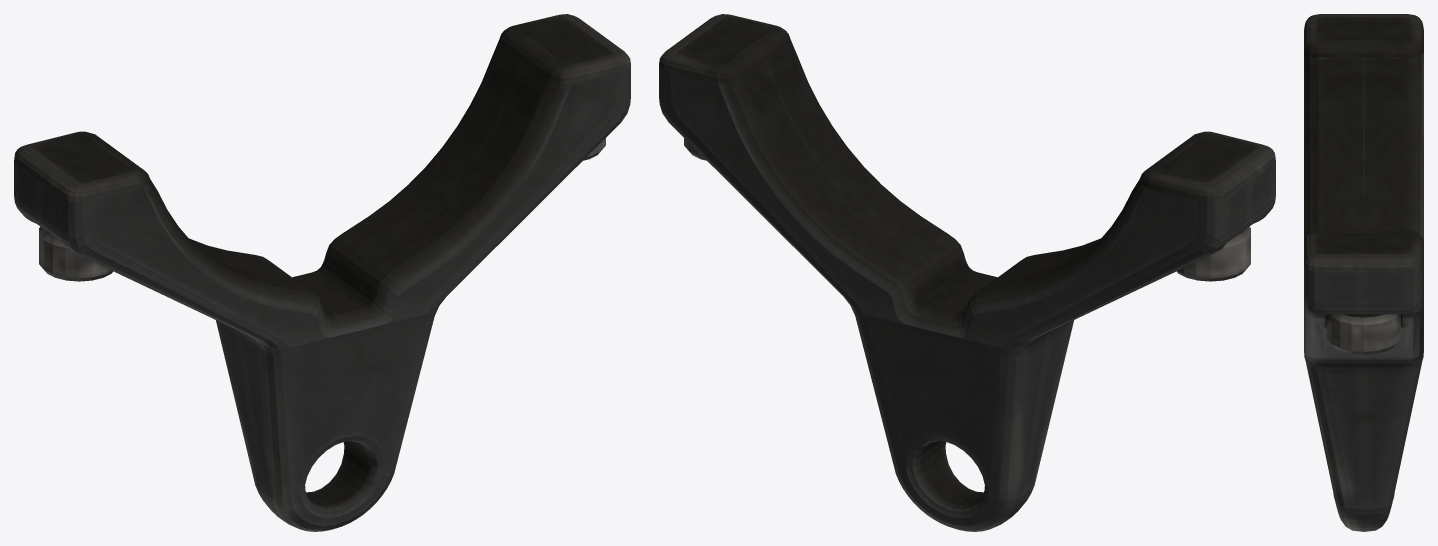
The picture shows the model from 3 angles, left to right: view 1: azimuth 30°, elevation 25°; view 2: azimuth 150°, elevation 25°; view 3: azimuth 270°, elevation 25°; orthographic projection. The views are drawn at different scales.
Parts seen in each view (by area): view 1: TW_5c05295e0db834001a66acbb_PZ_Import; view 2: TW_5c05295e0db834001a66acbb_PZ_Import; view 3: TW_5c05295e0db834001a66acbb_PZ_Import.
Part boxes in pixels (box(x1,y1,x2,y2)): TW_5c05295e0db834001a66acbb_PZ_Import: box(14, 14, 630, 531); TW_5c05295e0db834001a66acbb_PZ_Import: box(659, 14, 1275, 531); TW_5c05295e0db834001a66acbb_PZ_Import: box(1304, 14, 1423, 531).
Size of the model in its own units: 0.0253 by 0.0051 by 0.0183.
Materials: 1 (1 with a texture image).
